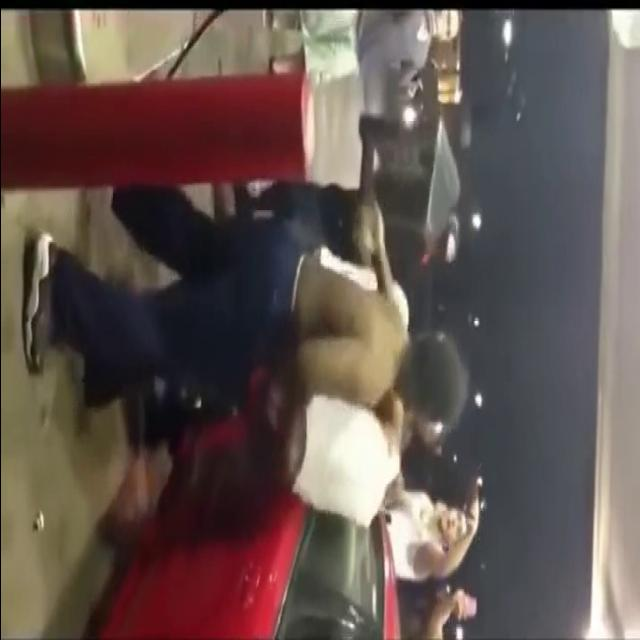NonViolence: (262, 12, 466, 120)
Violence: (89, 214, 457, 522)
